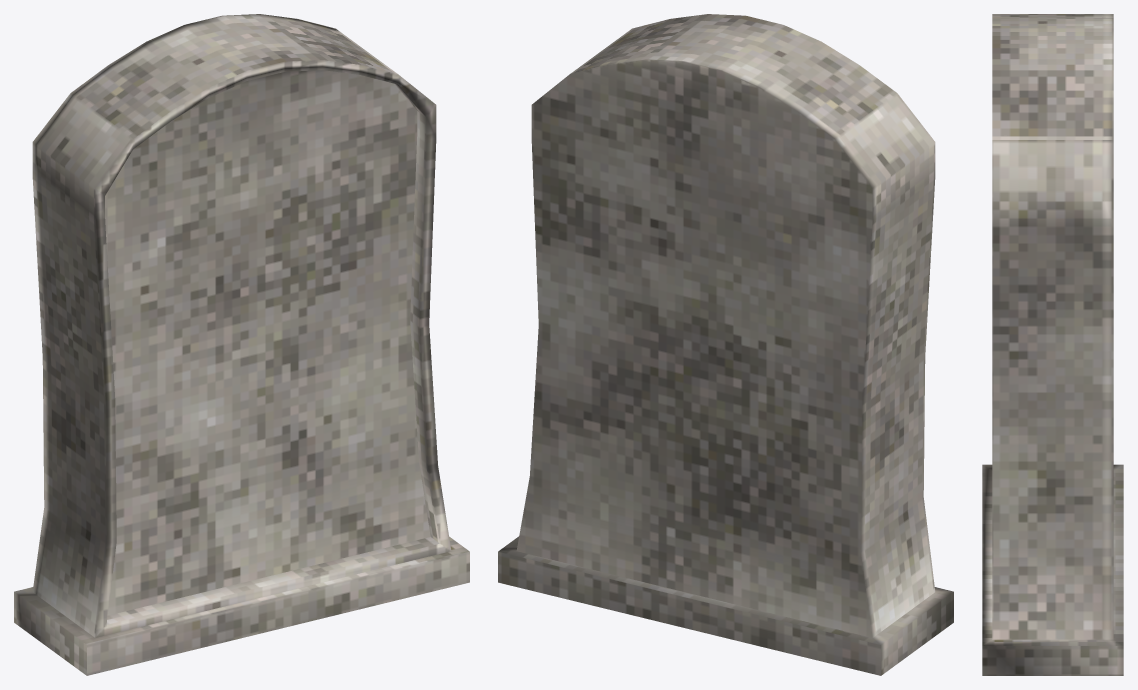
Rendered from tombstone1.glb.
The picture shows the model from 3 angles, left to right: view 1: azimuth 30°, elevation 25°; view 2: azimuth 150°, elevation 25°; view 3: azimuth 270°, elevation 25°; orthographic projection. The views are drawn at different scales.
Visible parts, largest first — view 1: tombstone_1_geo; view 2: tombstone_1_geo; view 3: tombstone_1_geo.
Part boxes in pixels (<box>): tombstone_1_geo: <box>14,14,469,675</box>; tombstone_1_geo: <box>498,14,953,675</box>; tombstone_1_geo: <box>982,14,1123,675</box>.
Size of the model in its own units: 0.9175 by 1.28 by 0.3027.
1 material, 1 textured.
